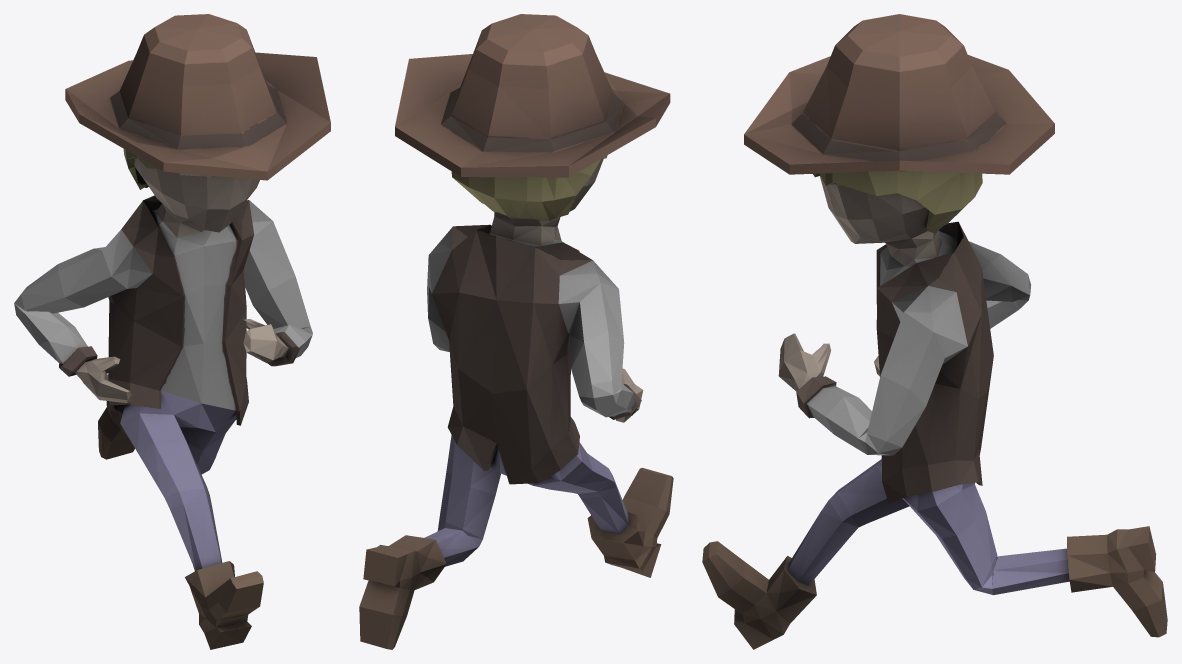
File: char_12.obj
3 views of the same model, side by side, from view 1: azimuth 30°, elevation 25°; view 2: azimuth 150°, elevation 25°; view 3: azimuth 270°, elevation 25° (orthographic). The views are drawn at different scales.
Parts seen in each view (by area): view 1: Cube; view 2: Cube; view 3: Cube.
Boxes of the visible parts, <box> form: Cube: <box>14,14,330,649</box>; Cube: <box>359,14,673,649</box>; Cube: <box>702,14,1167,649</box>.
Bounding box in the file's own units: 3.67 × 7.89 × 5.27.
Materials: 1 (1 with a texture image).
